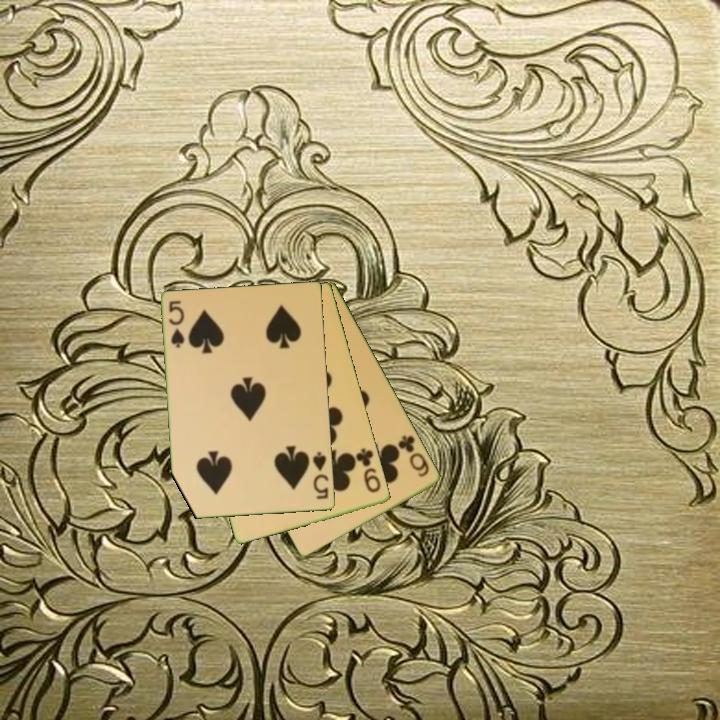5s: (310, 448, 332, 502), (166, 297, 188, 351)
6c: (395, 432, 432, 480)
9c: (352, 445, 384, 496)
